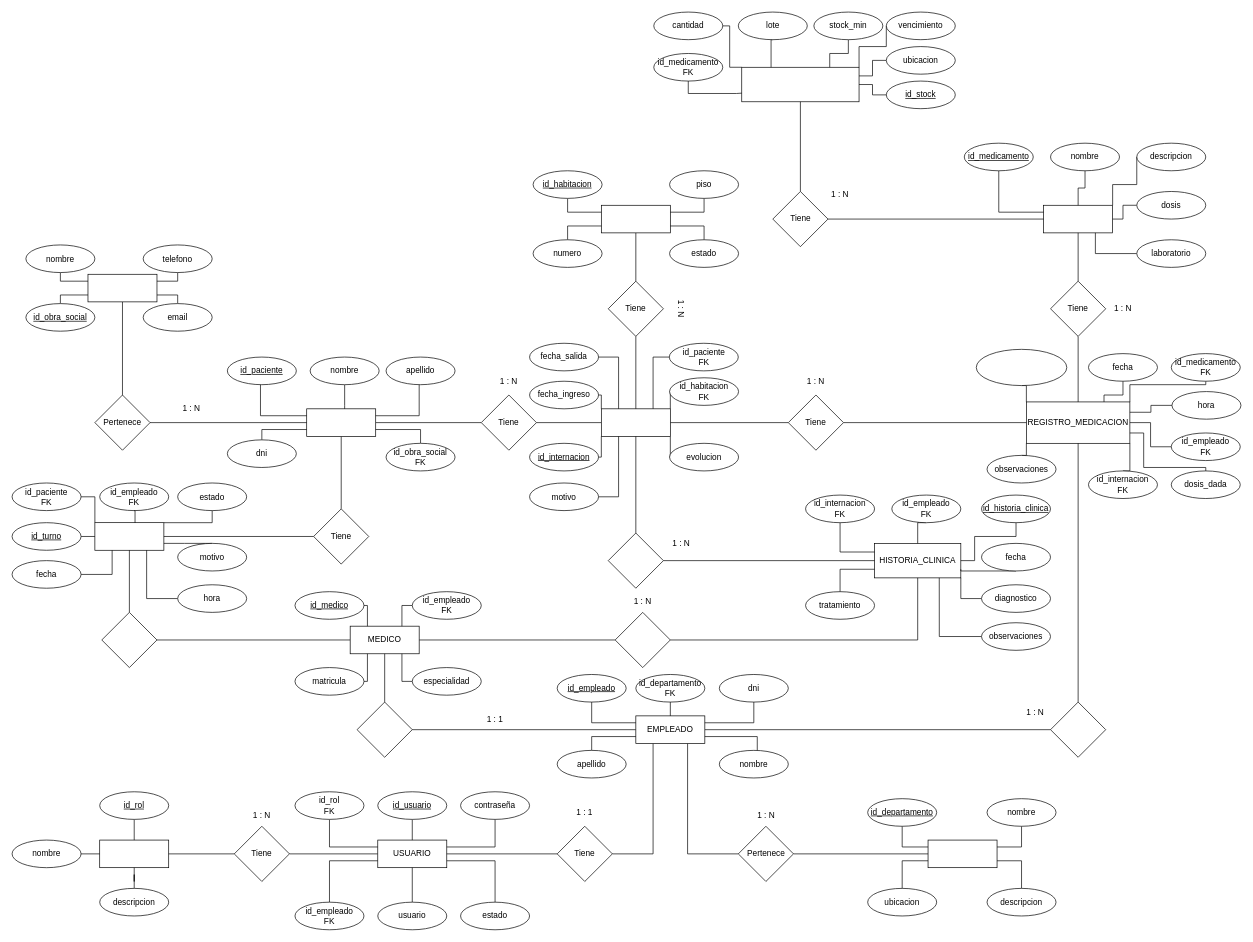
The diagram is 1253 pixels wide and 942 high, and some of its shapes have lost their labels. Here are the shapes that lost their labels. From the top down, the centre of each, then its label:
At (x=800, y=84): "STOCK_MEDICAMENTOS".
At (x=635, y=219): "HABITACION".
At (x=1078, y=219): "MEDICAMENTO".
At (x=122, y=288): "OBRA_SOCIAL".
At (x=1021, y=367): "id_registro_medicacion".
At (x=341, y=422): "PACIENTE".
At (x=635, y=422): "INTERNACION".
At (x=129, y=536): "TURNO".
At (x=635, y=560): "Registra".
At (x=129, y=640): "Asigna".
At (x=642, y=640): "Elabora".
At (x=384, y=729): "Es".
At (x=1078, y=729): "Administra".
At (x=134, y=853): "ROL".
At (x=962, y=853): "DEPARTAMENTO".
